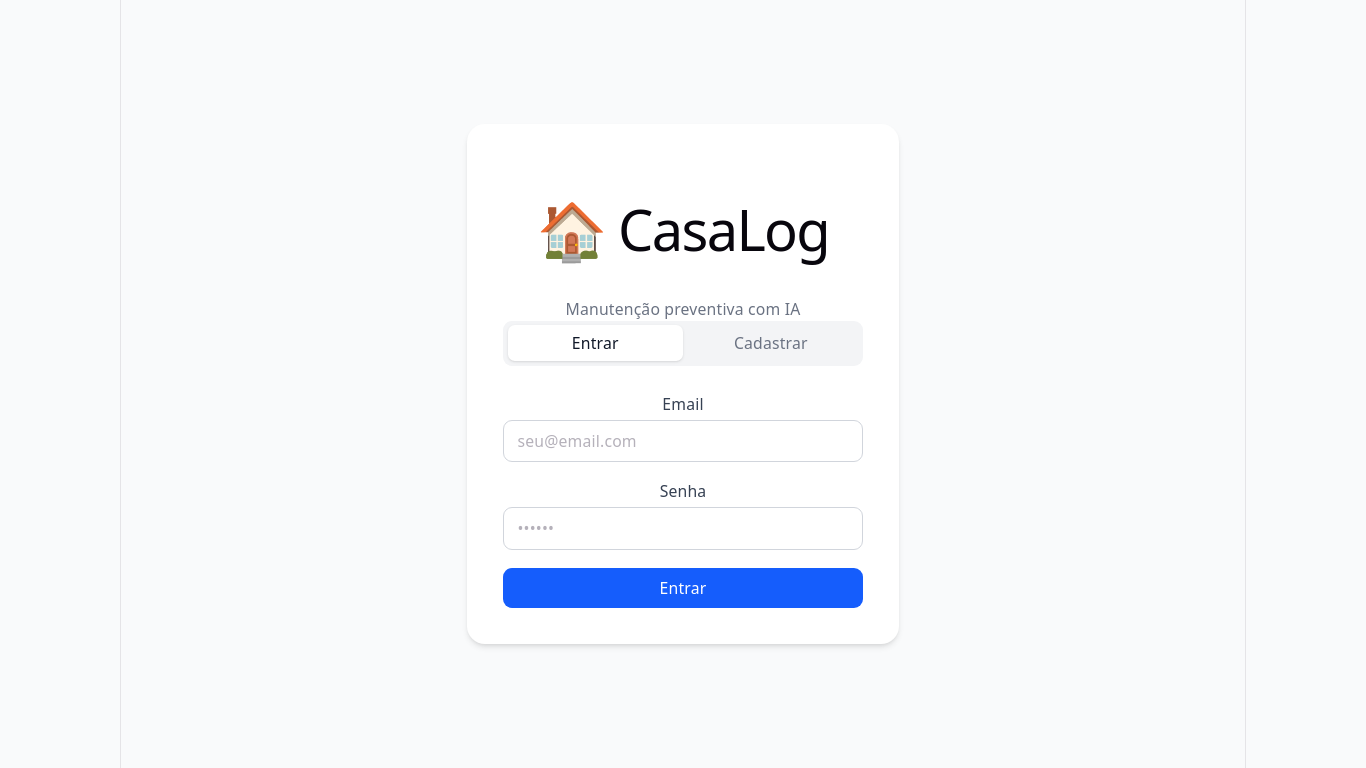
Scenario: AuthForm › shows error on login failure
Type "a@b.com" into the field with placeholder "seu@email.com".
click(683, 441); type("a@b.com")  # box [503, 420, 863, 462]
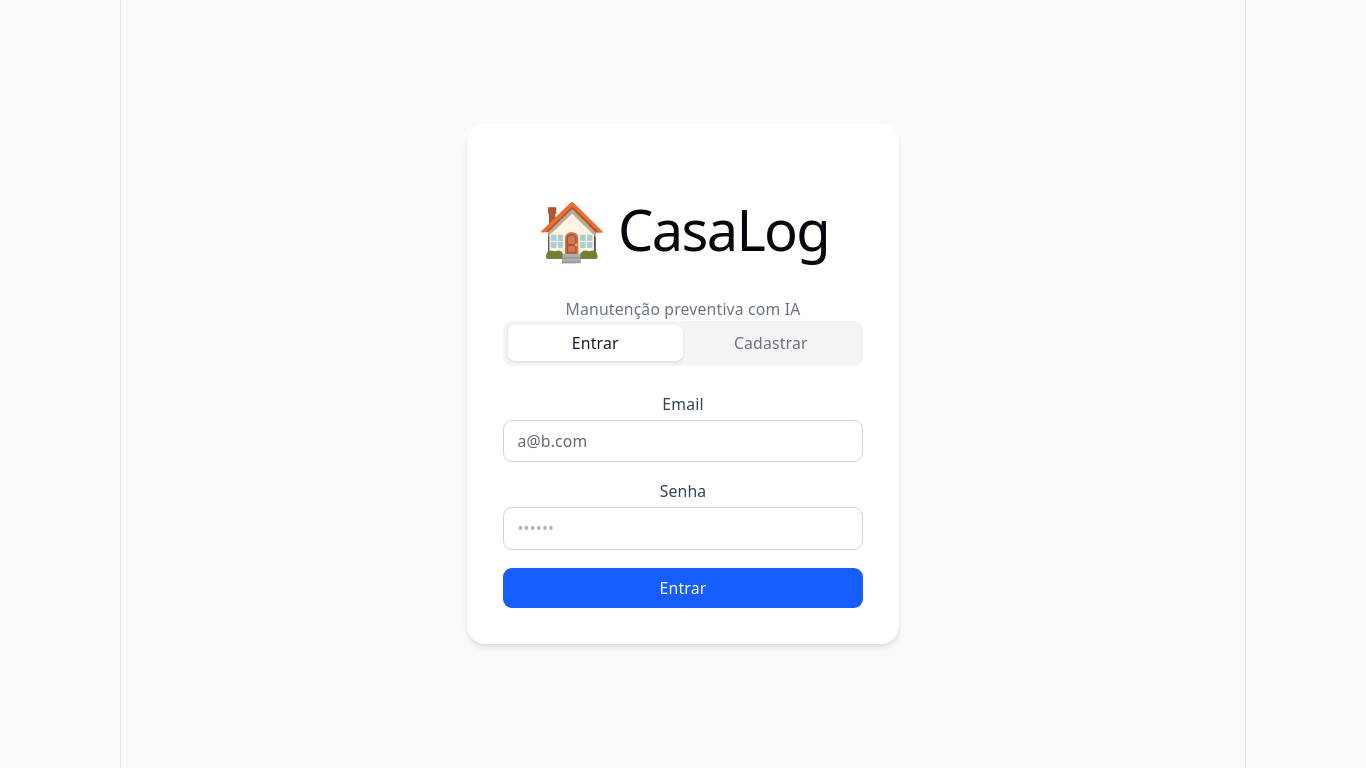
Type "errado" into the password field with placeholder "••••••".
click(683, 529); type("errado")  # box [503, 507, 863, 550]
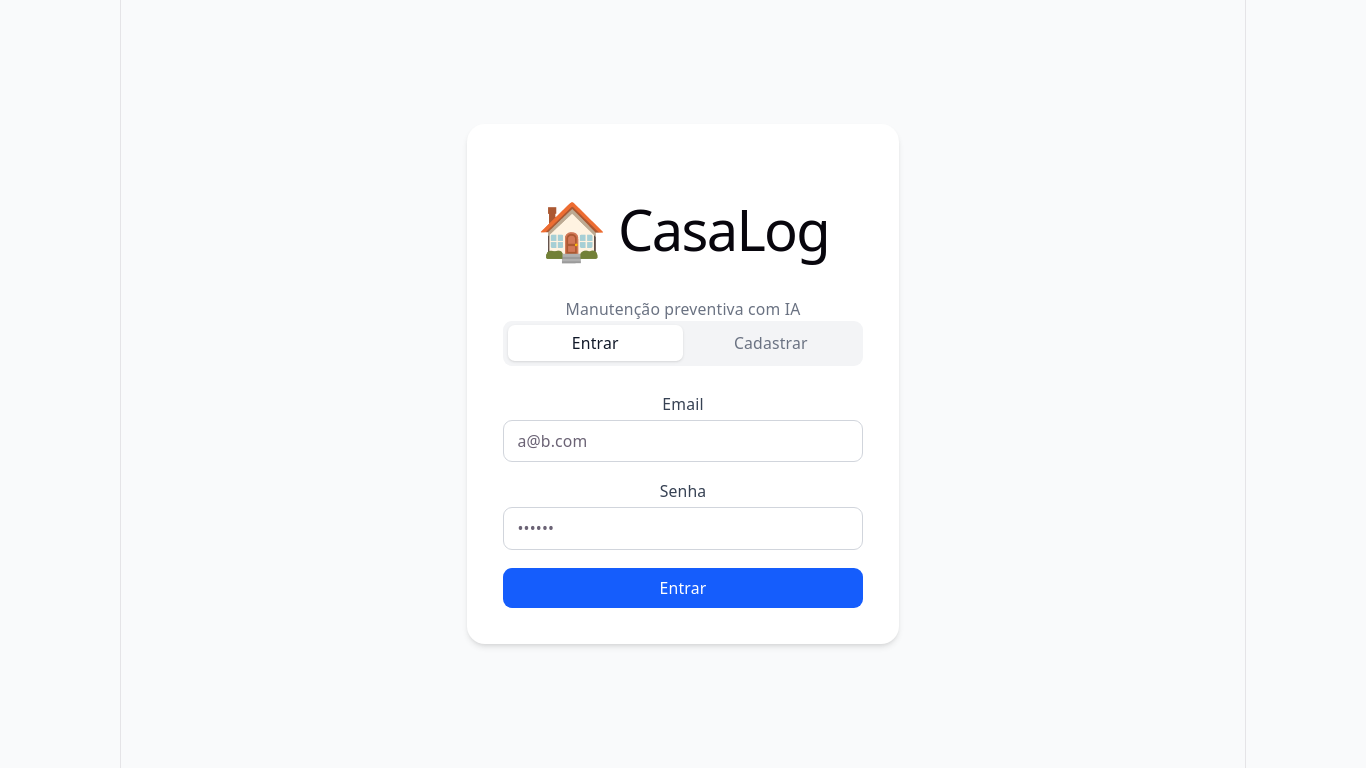
Submit the form with placeholder "seu@email.com", box [503, 393, 863, 608]
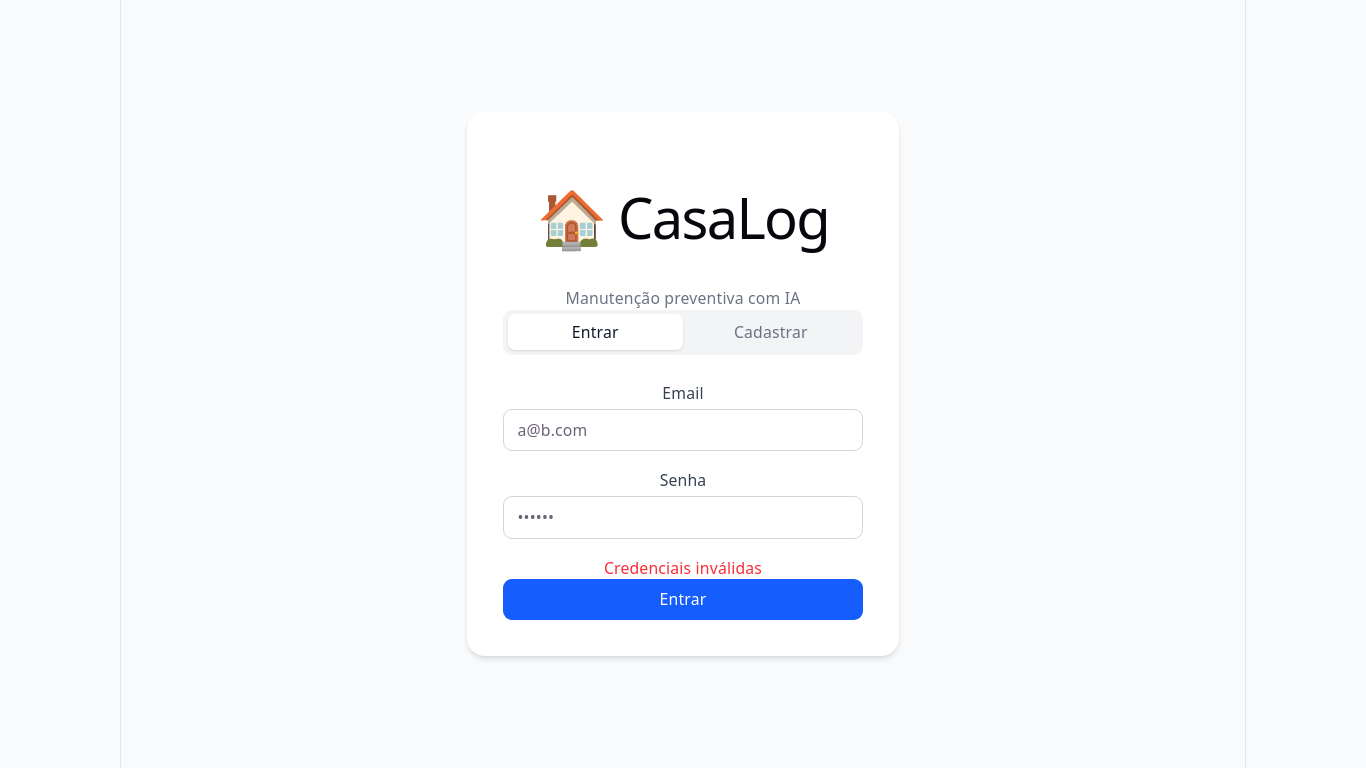
Now the text "Credenciais inválidas" is shown, box [604, 557, 762, 579]
